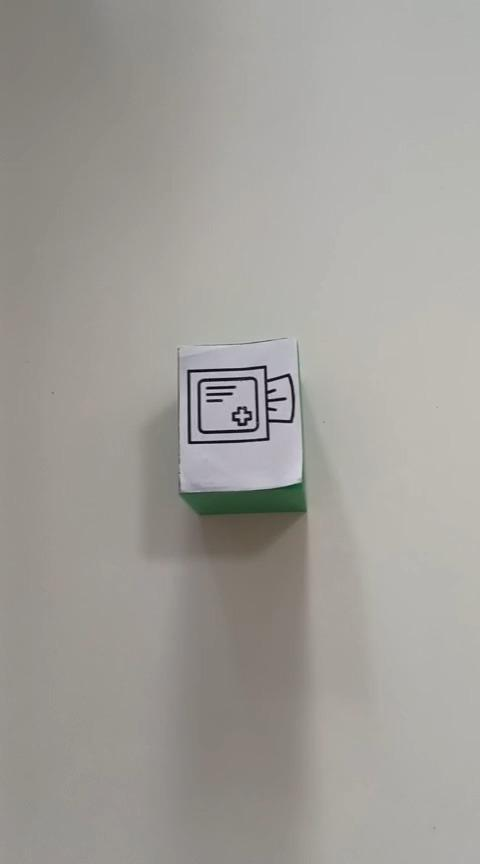Gauze: (175, 335, 306, 515)
